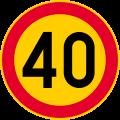Speed limit -40-: (19, 28, 101, 97)
